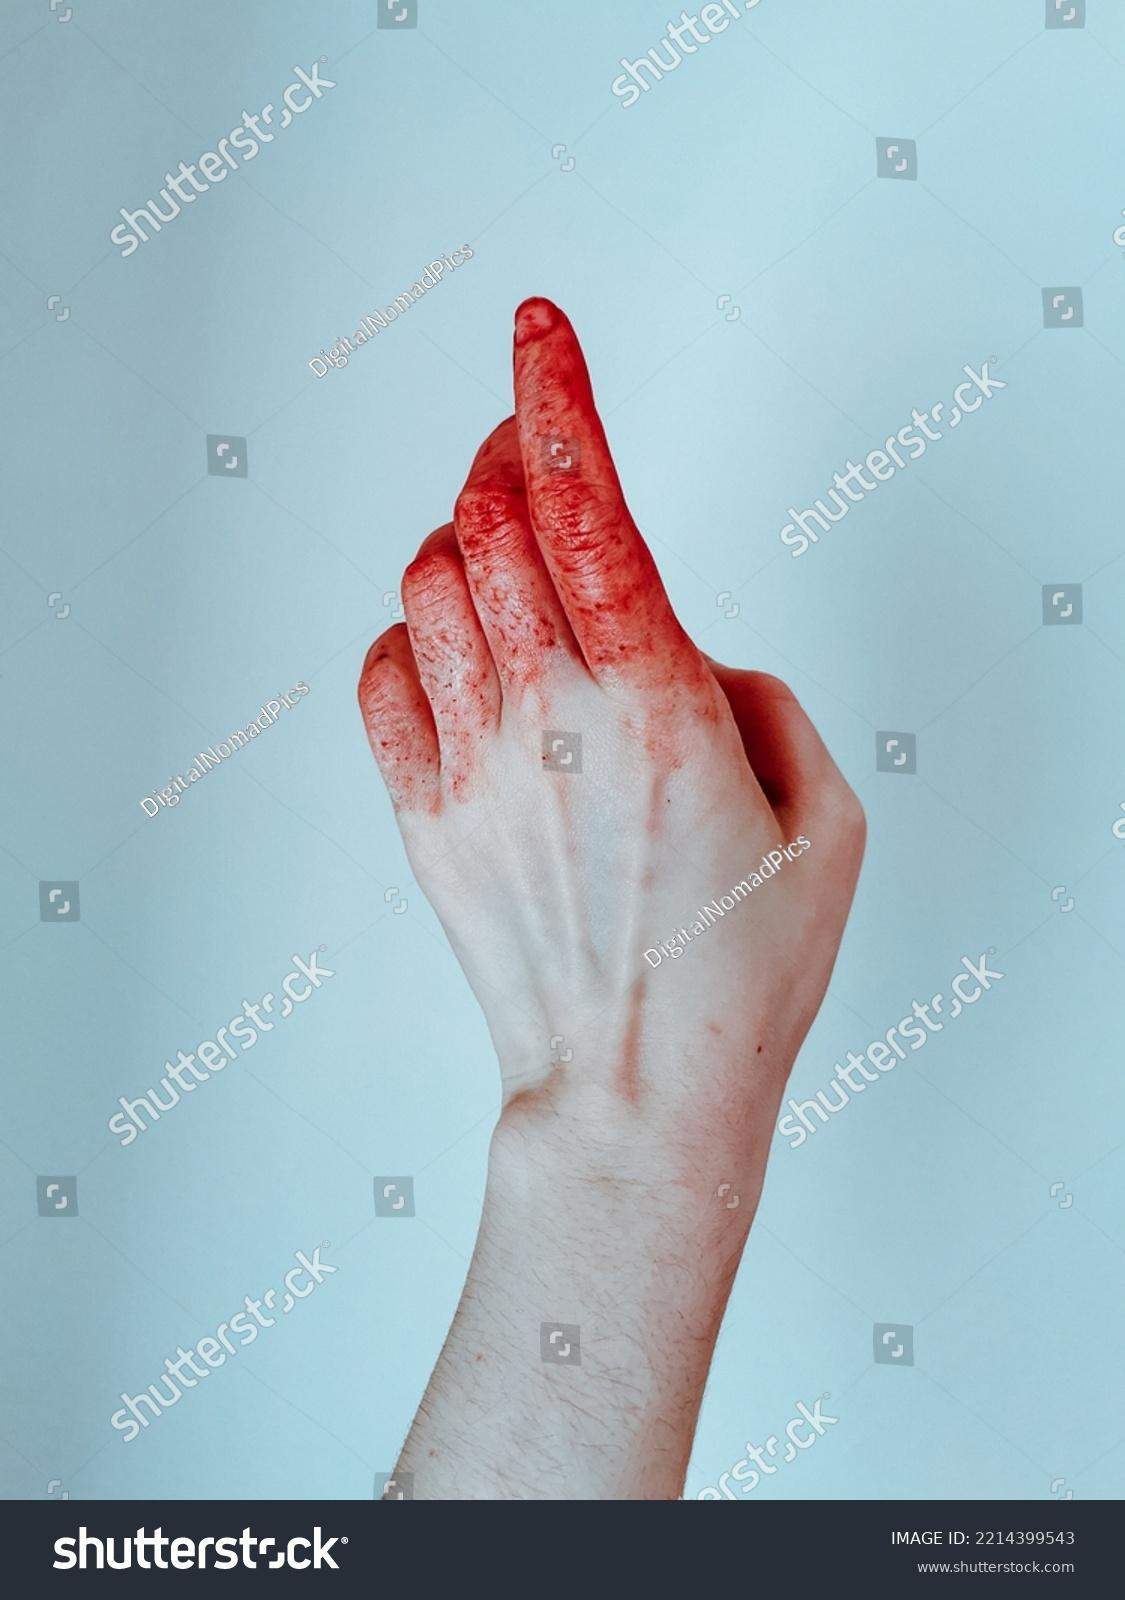Fire: (359, 298, 720, 812)
